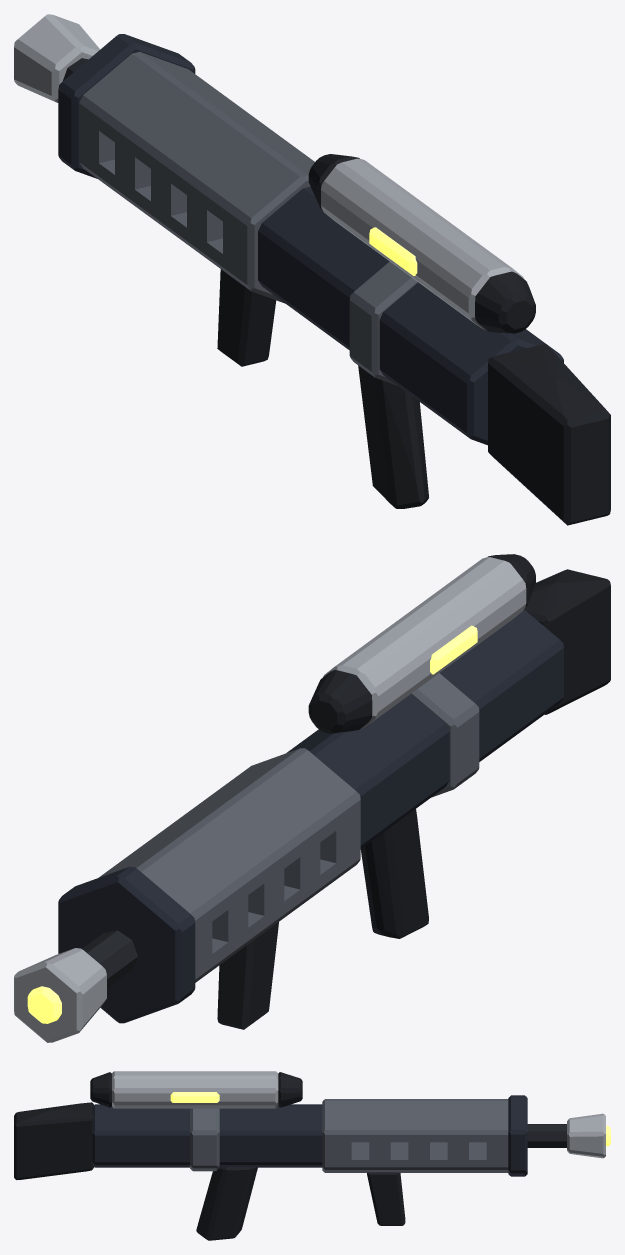
Rendered from w_b_rapid_beam_rifle.glb.
3 views of the same model, one above another, from view 1: azimuth 30°, elevation 25°; view 2: azimuth 150°, elevation 25°; view 3: azimuth 270°, elevation 25° (orthographic). The views are drawn at different scales.
Parts seen in each view (by area): view 1: weapon_body, weapon; view 2: weapon_body, weapon, weapon_metal; view 3: weapon_body, weapon_metal, weapon.
Part boxes in pixels (<box>): weapon_body: <box>14,14,610,525</box>; weapon: <box>369,227,417,275</box>; weapon_body: <box>14,554,610,1042</box>; weapon: <box>27,625,477,1023</box>; weapon_metal: <box>82,930,137,988</box>; weapon_body: <box>14,1071,605,1240</box>; weapon_metal: <box>527,1124,566,1147</box>; weapon: <box>170,1092,610,1146</box>.
Bounding box in the file's own units: 0.9959 × 2.3 × 7.62.
